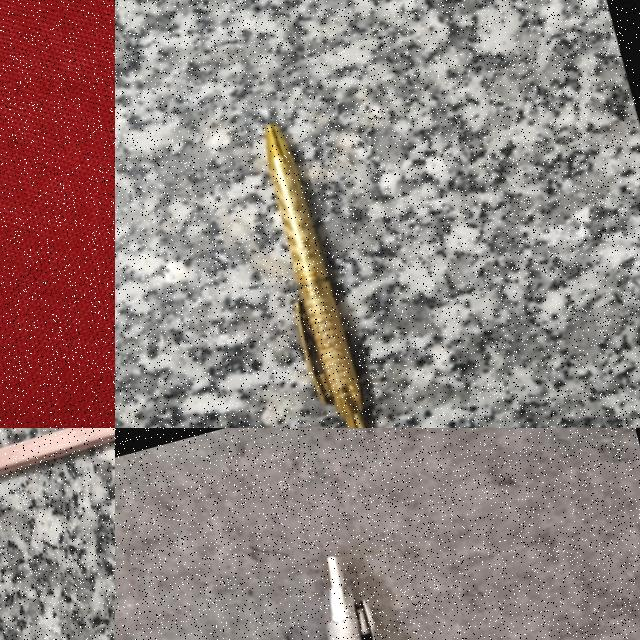pencil: (0, 428, 114, 475)
signature pen: (265, 124, 364, 427), (327, 557, 375, 639)
